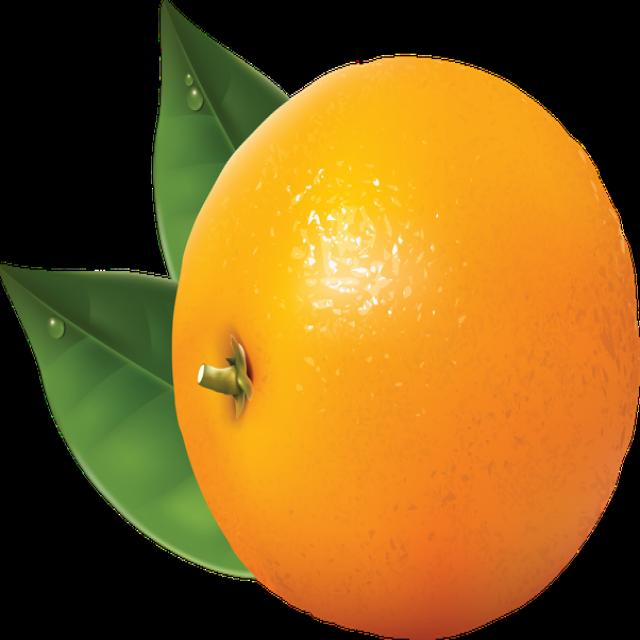orange: (167, 52, 640, 640)
